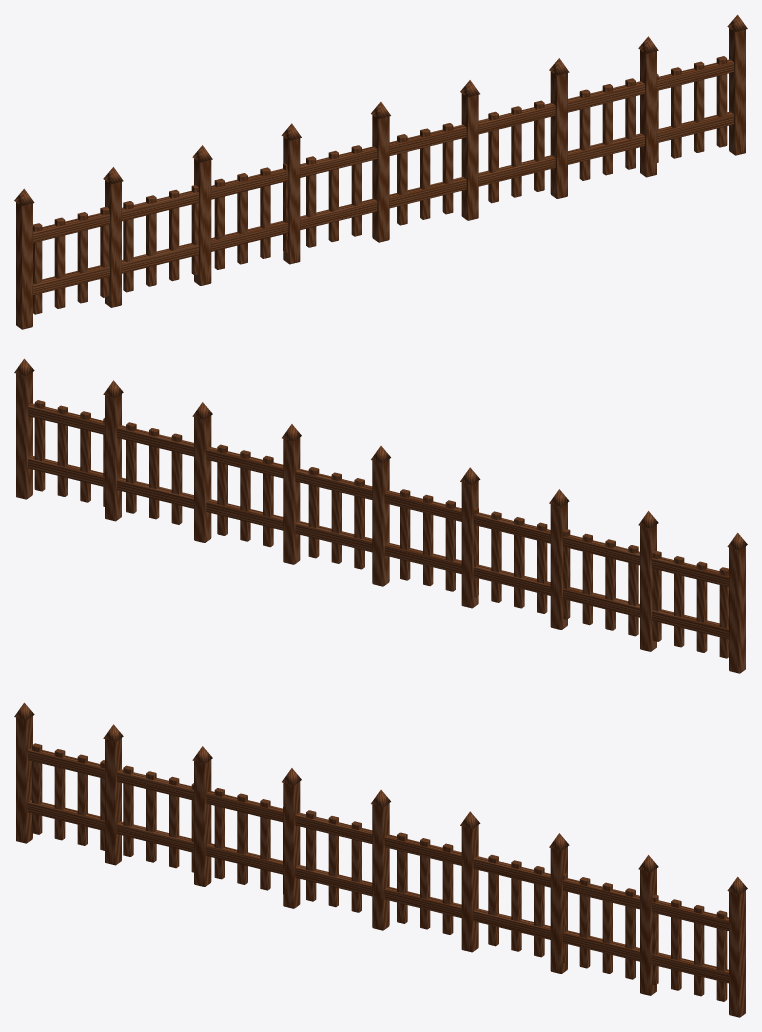
Rendered from Fence_Wood_10m_LOD0.fbx.
The picture shows the model from 3 angles, top to bottom: view 1: azimuth 30°, elevation 25°; view 2: azimuth 150°, elevation 25°; view 3: azimuth 330°, elevation 25°; orthographic projection.
Visible parts, largest first — view 1: Fence_Wood_10m_OPT_Merged_RB_Wood_Walnut_OPT_DATA; view 2: Fence_Wood_10m_OPT_Merged_RB_Wood_Walnut_OPT_DATA; view 3: Fence_Wood_10m_OPT_Merged_RB_Wood_Walnut_OPT_DATA.
Part boxes in pixels (box(x1,y1,x2,y2)): Fence_Wood_10m_OPT_Merged_RB_Wood_Walnut_OPT_DATA: box(14, 14, 747, 329); Fence_Wood_10m_OPT_Merged_RB_Wood_Walnut_OPT_DATA: box(14, 358, 747, 673); Fence_Wood_10m_OPT_Merged_RB_Wood_Walnut_OPT_DATA: box(14, 702, 747, 1017).
Bounding box in the file's own units: 1018 × 185 × 18.38.
Materials: 1 (1 with a texture image).
